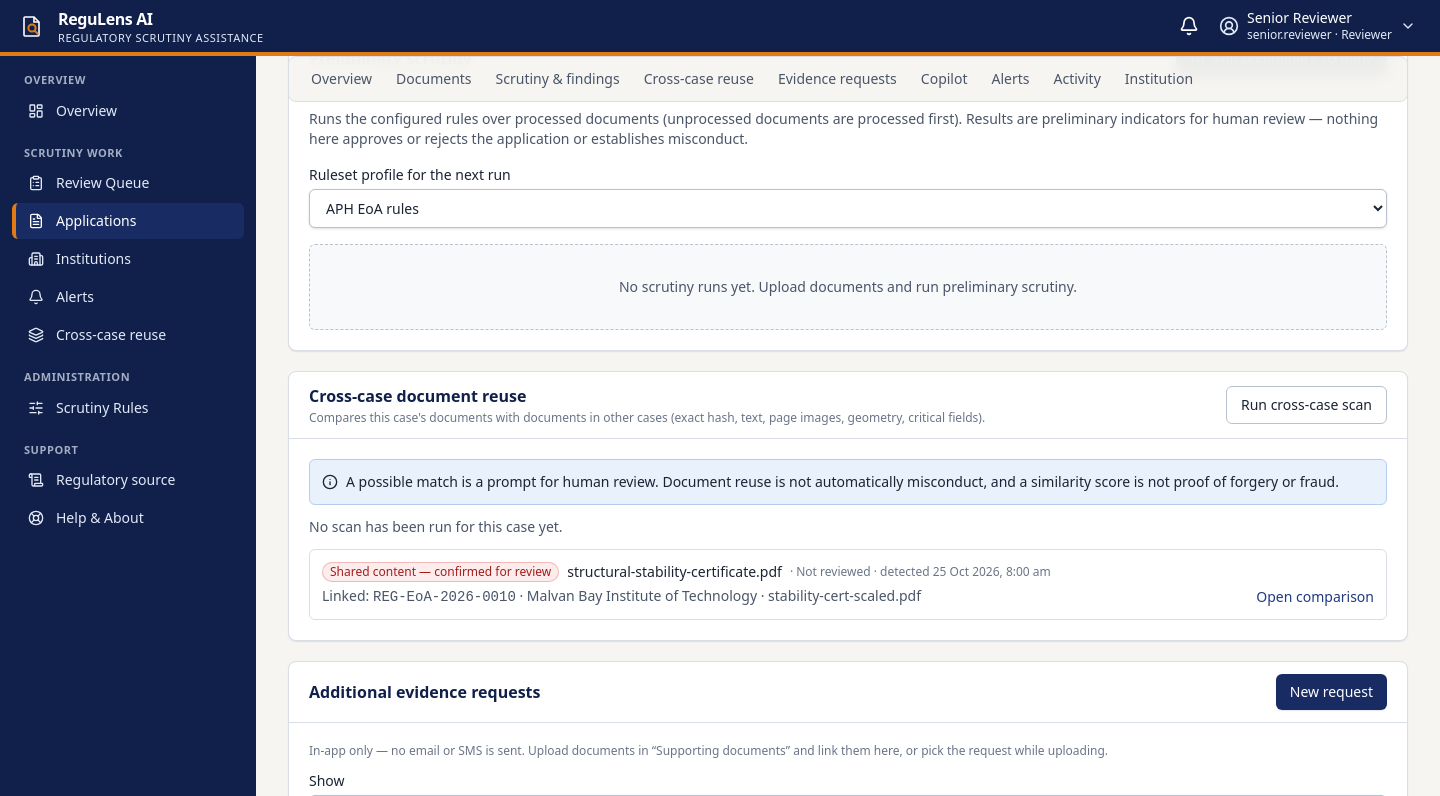
Test: Cross-case panel in the application workspace › links authorised reviewers to the comparison and runs a scan once
The width and height of the screenshot is (1440, 796).
(page scrolled)
Expected: the text "Malvan Bay Institute of Technology" is shown, [527, 586, 757, 605]
Double-click the button "Run cross-case scan" at (1306, 405), box [1226, 386, 1387, 424]
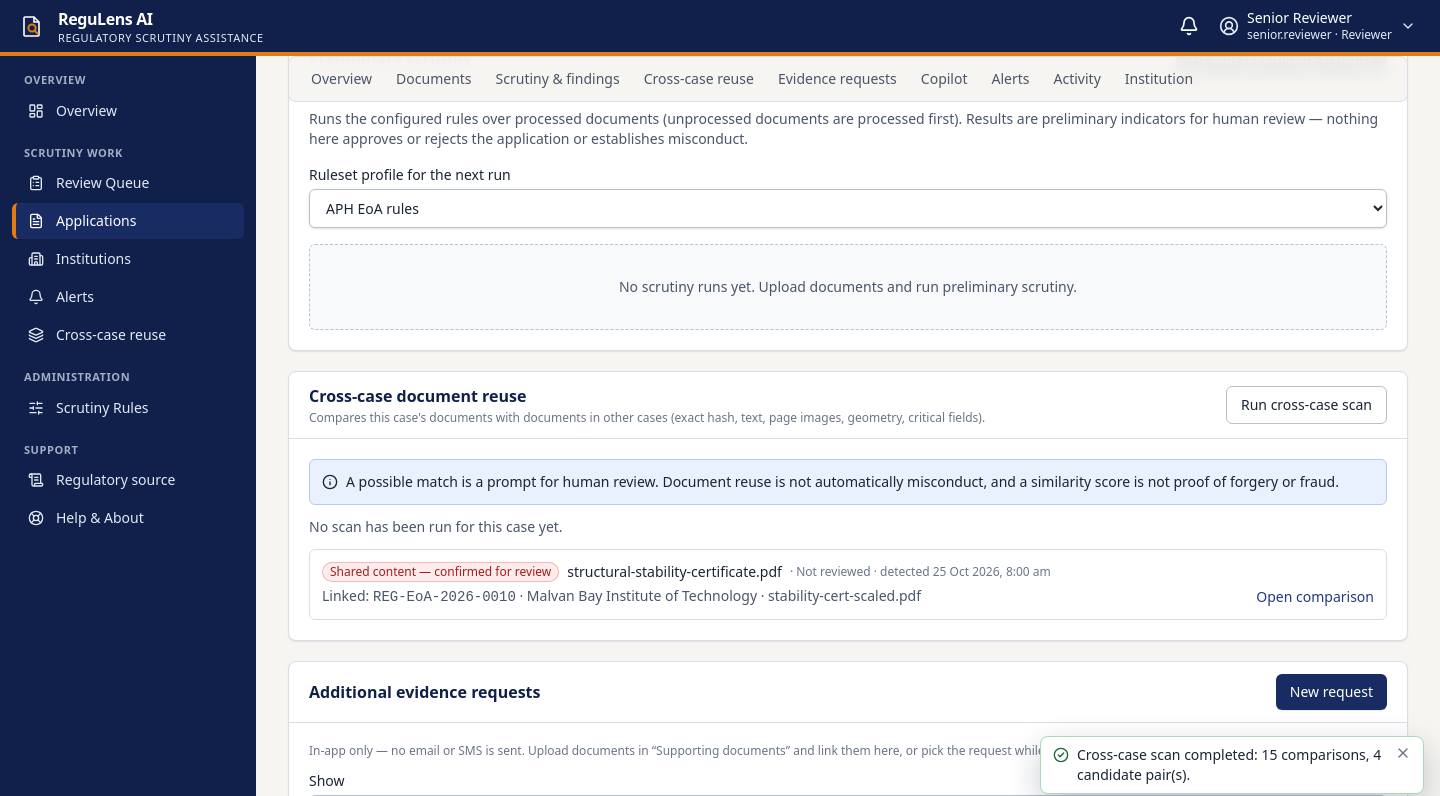
Result: the text "Cross-case scan completed: 15 comparisons, 4 candidate pair" is shown at [1077, 745, 1381, 784]
